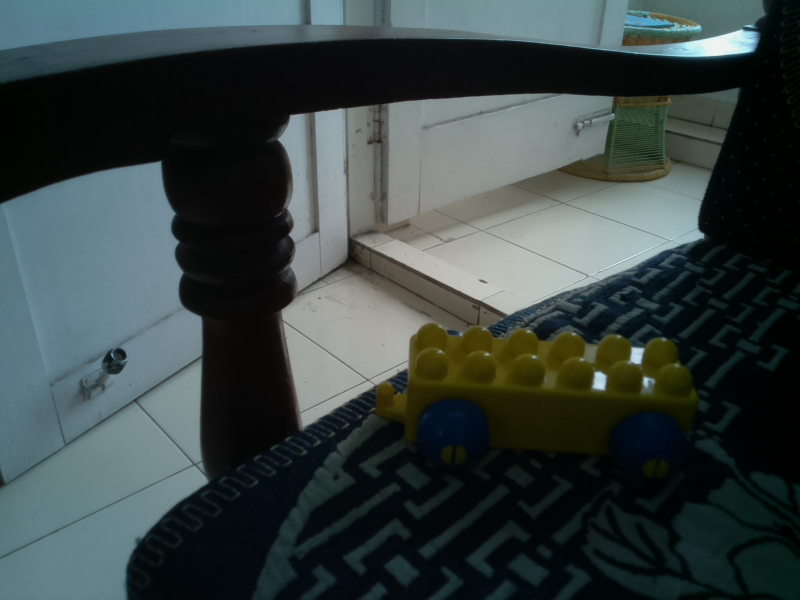toy_Car: (366, 314, 703, 488)
